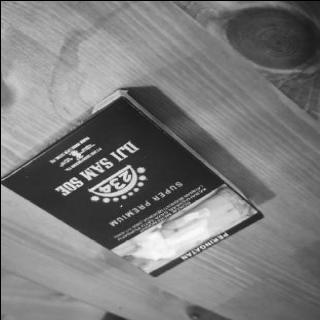objects: (1, 88, 262, 276)
